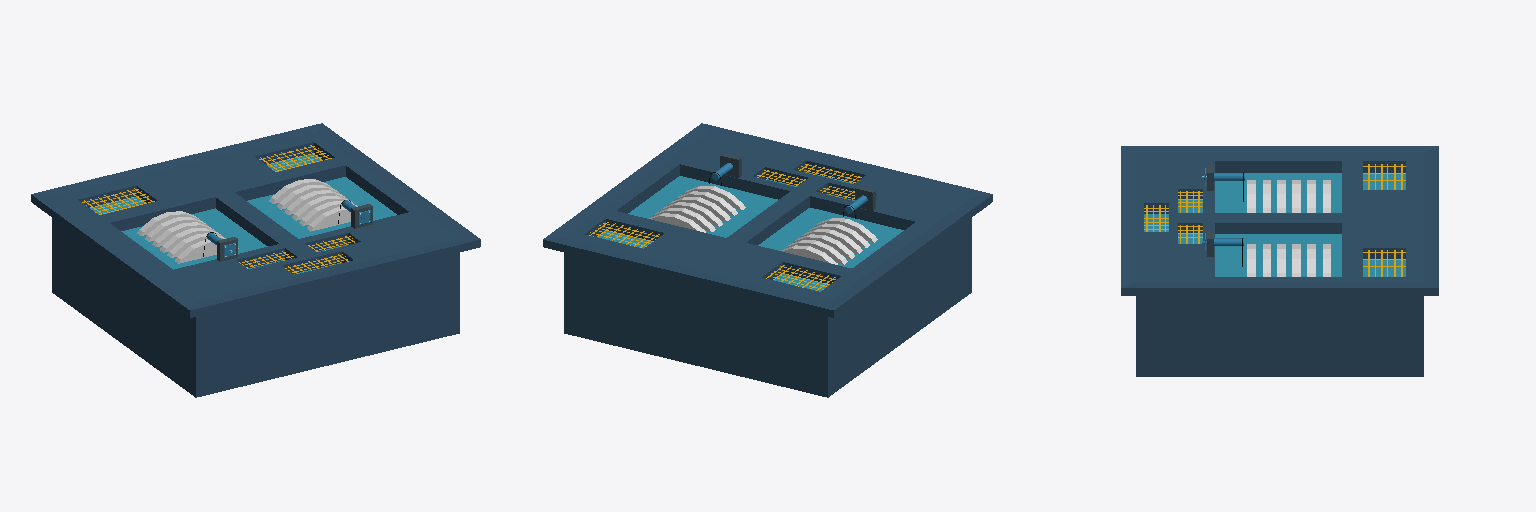
File: rotary_filter.obj
3 views of the same model, side by side, from view 1: azimuth 30°, elevation 25°; view 2: azimuth 150°, elevation 25°; view 3: azimuth 270°, elevation 25° (orthographic).
Parts seen in each view (by area): view 1: ___, ___.2, __.2, __.13, __.9, __.11, __.10; view 2: ___, ___.2, __.8, __.9, __.10, __.2, __.11; view 3: ___, ___.2.
Boxes of the visible parts, x1,y1,x2,y2 form: ___: [31, 123, 480, 397]; ___.2: [90, 154, 396, 274]; __.2: [120, 149, 350, 264]; __.13: [82, 146, 314, 263]; __.9: [95, 155, 354, 272]; __.11: [90, 151, 350, 268]; __.10: [94, 153, 352, 270]; ___: [543, 123, 992, 397]; ___.2: [598, 172, 903, 291]; __.8: [603, 164, 861, 279]; __.9: [599, 166, 858, 282]; __.10: [598, 168, 855, 284]; __.2: [605, 167, 837, 281]; __.11: [595, 229, 862, 286]; ___: [1121, 146, 1438, 376]; ___.2: [1144, 173, 1405, 276].
Size of the model in its own units: 6426 by 2392 by 6076.